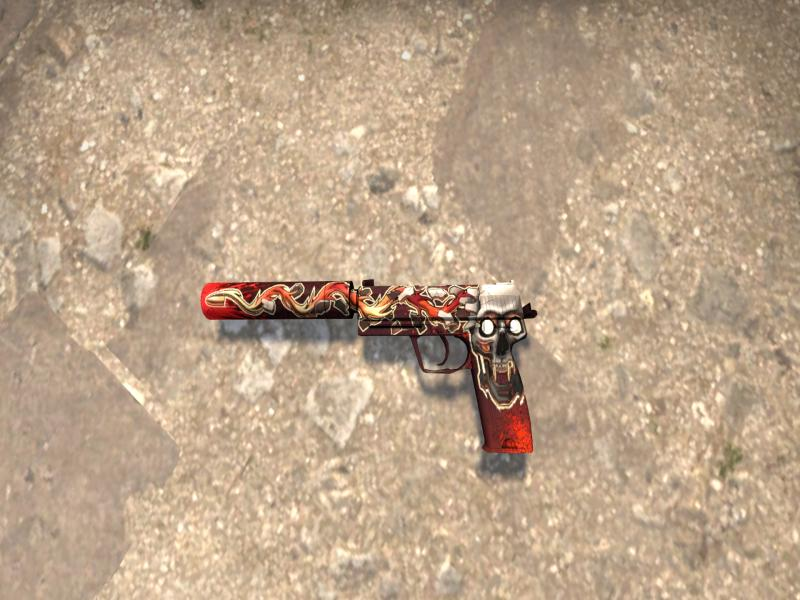USP: (200, 280, 536, 453)
